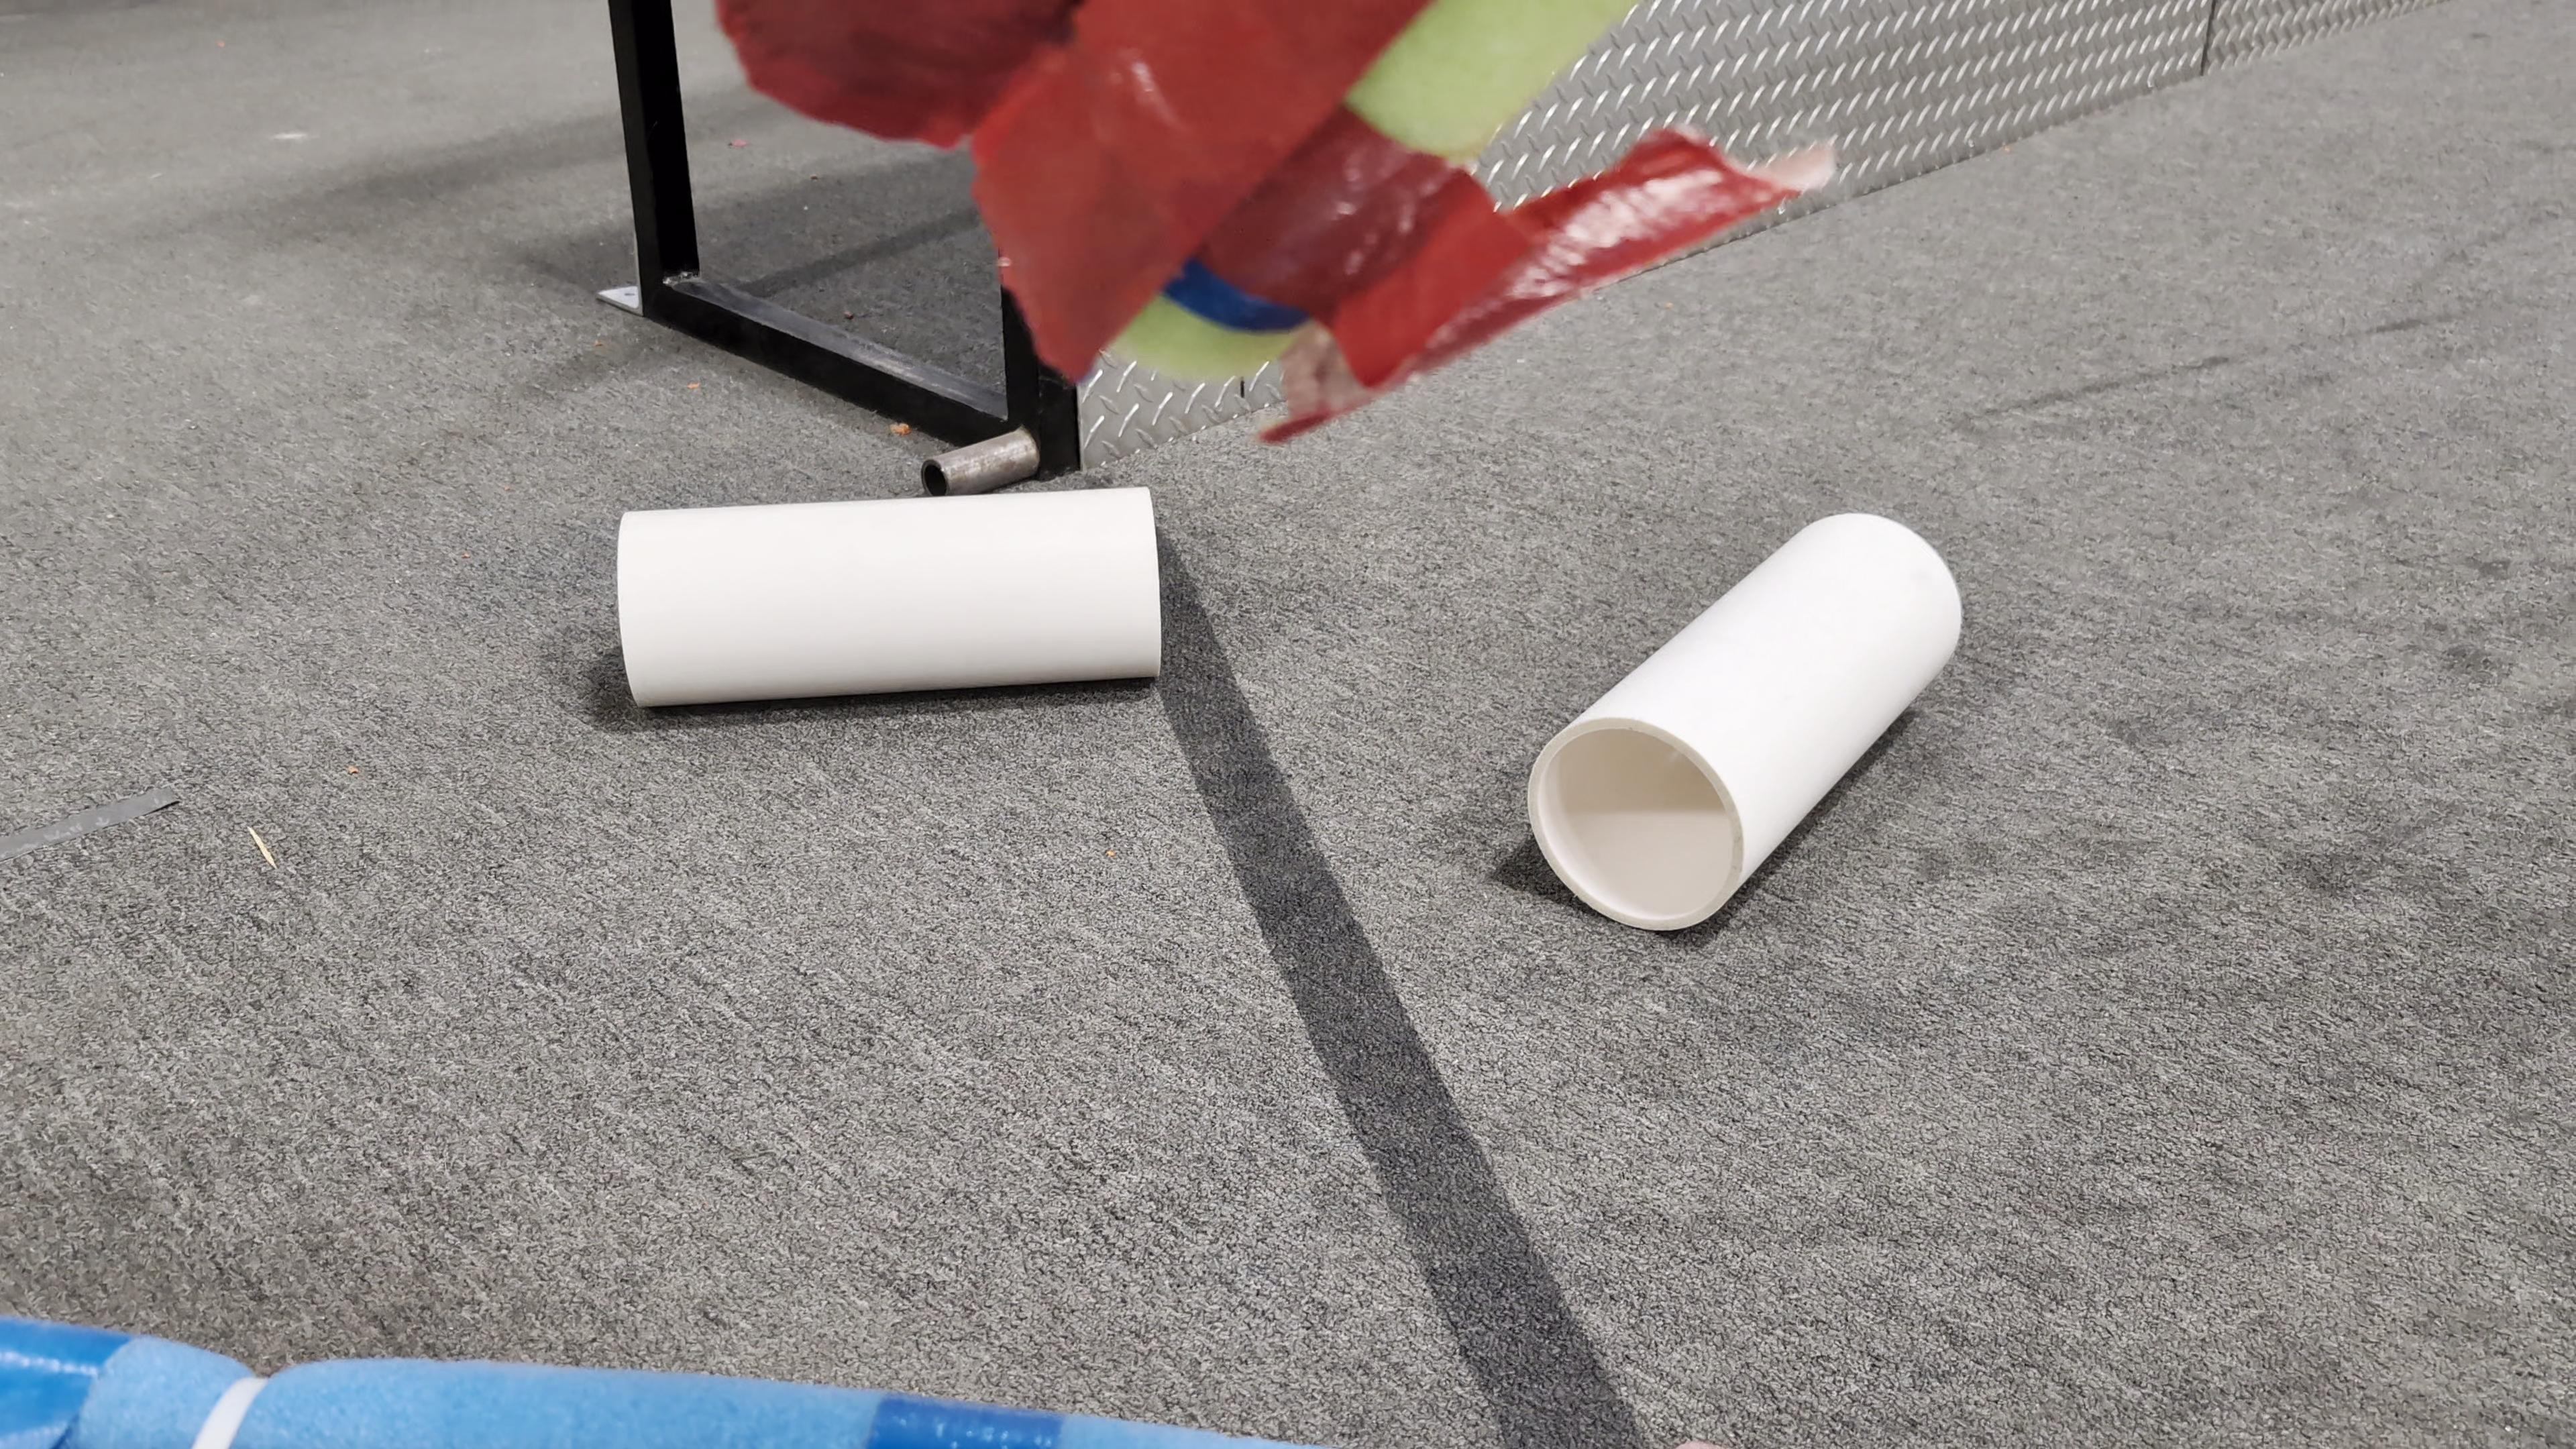coral: (1527, 510, 1964, 931), (614, 479, 1166, 708)
